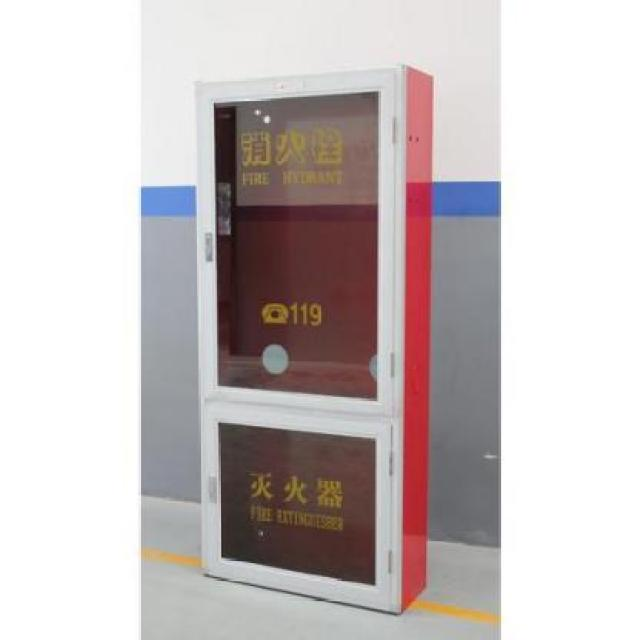firehydrant: (189, 60, 441, 622)
